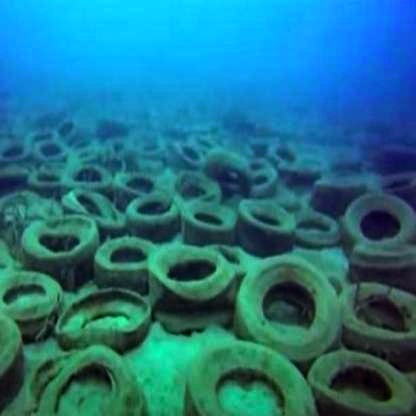tire: (238, 239, 342, 366), (176, 340, 312, 416), (317, 325, 416, 416), (339, 271, 416, 377), (343, 187, 416, 265), (159, 249, 234, 314), (175, 187, 248, 252), (31, 202, 94, 270), (103, 231, 167, 292), (129, 194, 175, 229)
